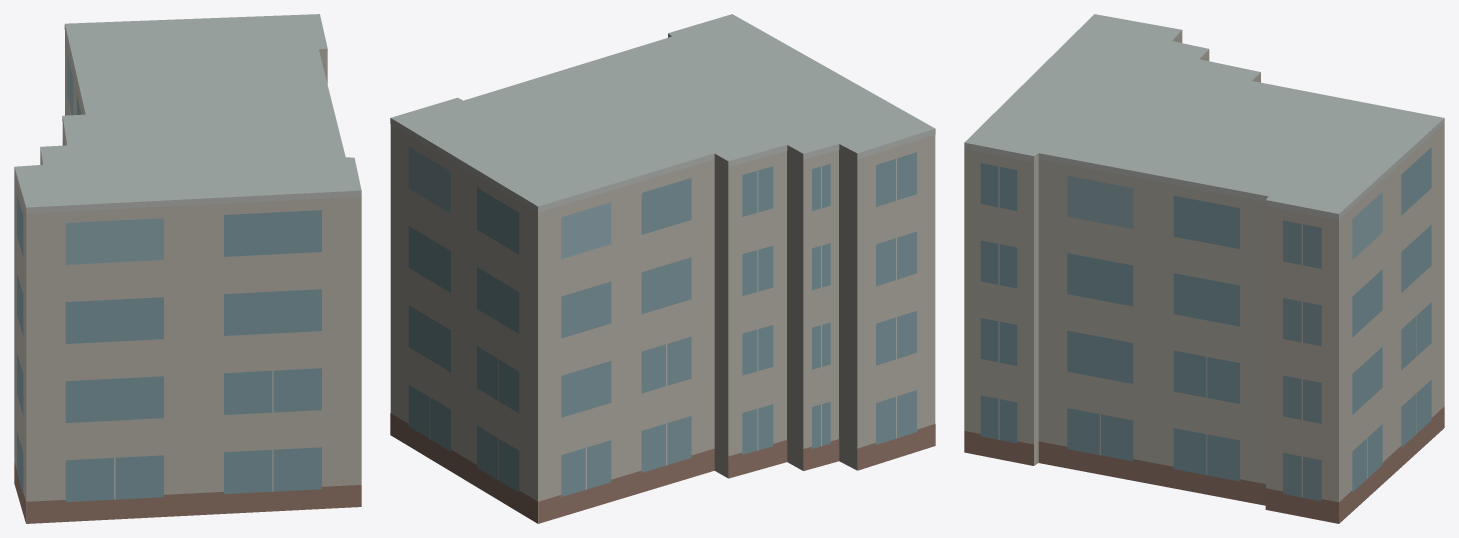
File: survey-upis-32532378.glb
The picture shows the model from 3 angles, left to right: view 1: azimuth 30°, elevation 25°; view 2: azimuth 150°, elevation 25°; view 3: azimuth 270°, elevation 25°; orthographic projection. The views are drawn at different scales.
Visible parts, largest first — view 1: survey-upis-32532378.tmp; view 2: survey-upis-32532378.tmp; view 3: survey-upis-32532378.tmp.
Part boxes in pixels (bbox=[...]): survey-upis-32532378.tmp: bbox=[14, 14, 361, 523]; survey-upis-32532378.tmp: bbox=[390, 14, 935, 523]; survey-upis-32532378.tmp: bbox=[964, 14, 1444, 523].
Size of the model in its own units: 17.73 by 12.8 by 17.99.
